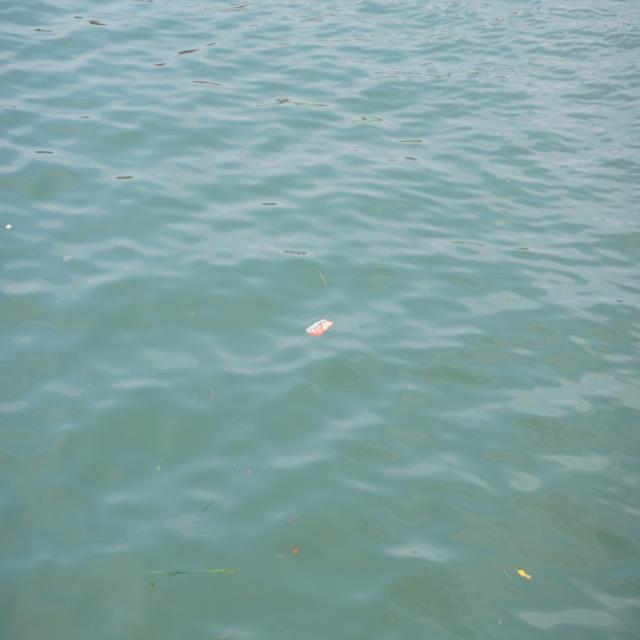Bungkus Makanan: (304, 316, 337, 343)
